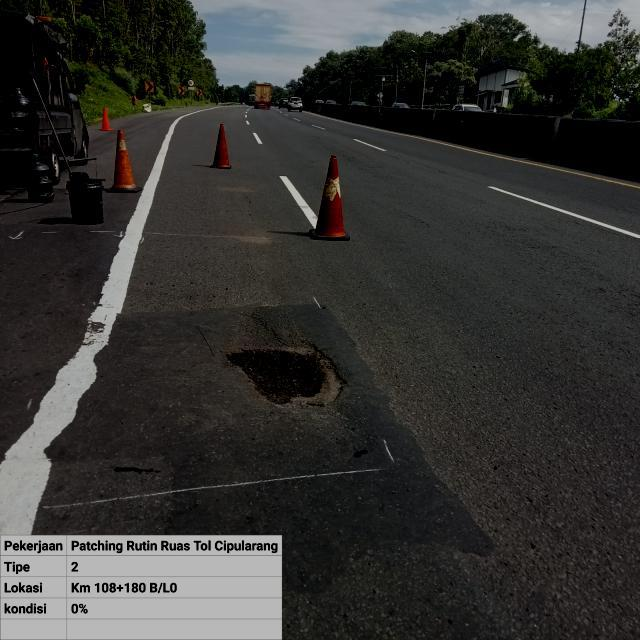Buraco: (220, 310, 353, 417), (105, 463, 166, 478), (343, 441, 374, 465)
